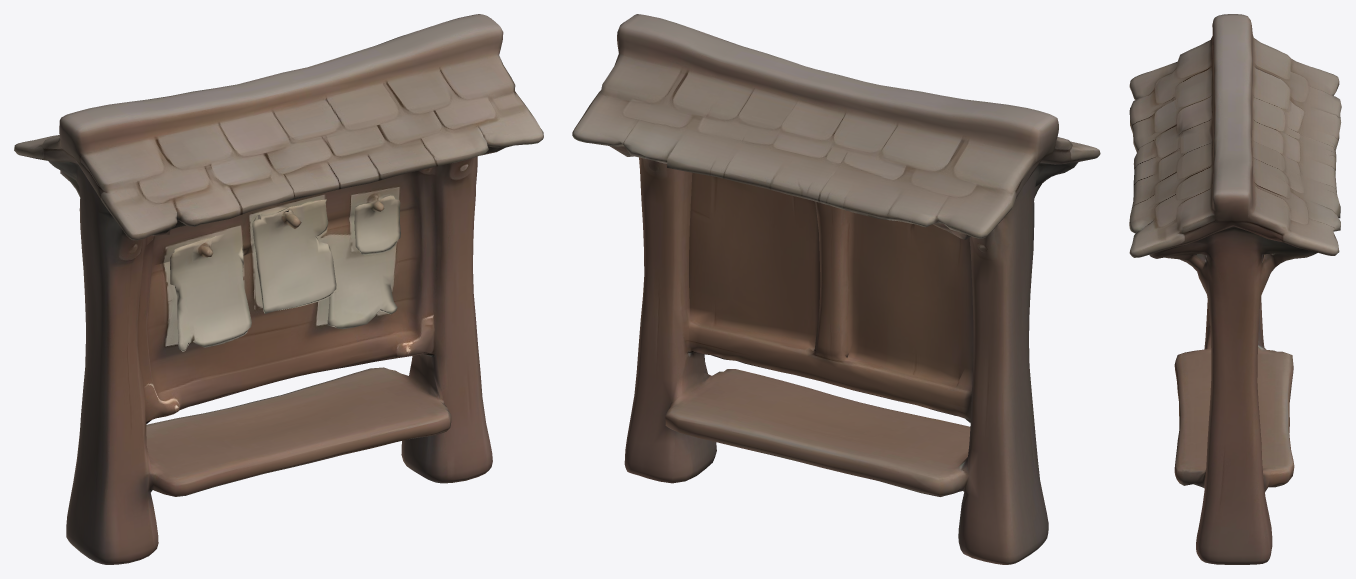
File: bulletin-board.glb
3 renders of one model, left to right at view 1: azimuth 30°, elevation 25°; view 2: azimuth 150°, elevation 25°; view 3: azimuth 270°, elevation 25°, orthographic. The views are drawn at different scales.
Parts seen in each view (by area): view 1: bulletin-board; view 2: bulletin-board; view 3: bulletin-board.
Boxes of the visible parts, x1=… form: bulletin-board: x1=14, y1=14, x2=543, y2=564; bulletin-board: x1=572, y1=14, x2=1100, y2=564; bulletin-board: x1=1129, y1=14, x2=1341, y2=564.
Size of the model in its own units: 0.9999 by 0.9782 by 0.4939.
Materials: 1 (1 with a texture image).
